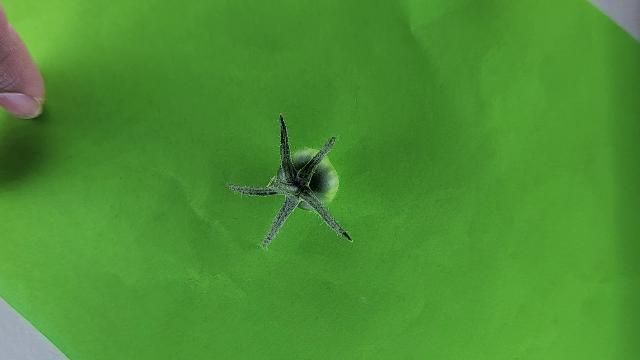Fruit Maturation: (279, 147, 340, 212)
